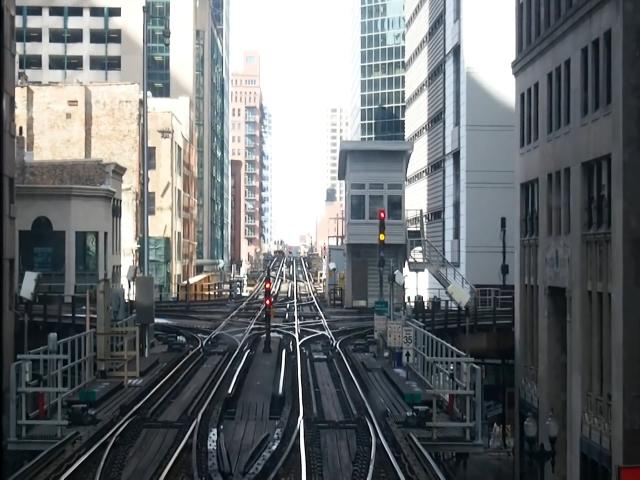signal light: (377, 209, 389, 273), (266, 276, 273, 320)
